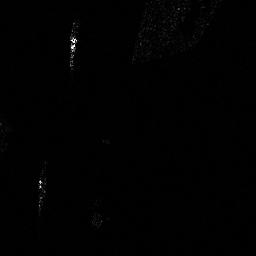ship: (69, 35, 77, 68)
